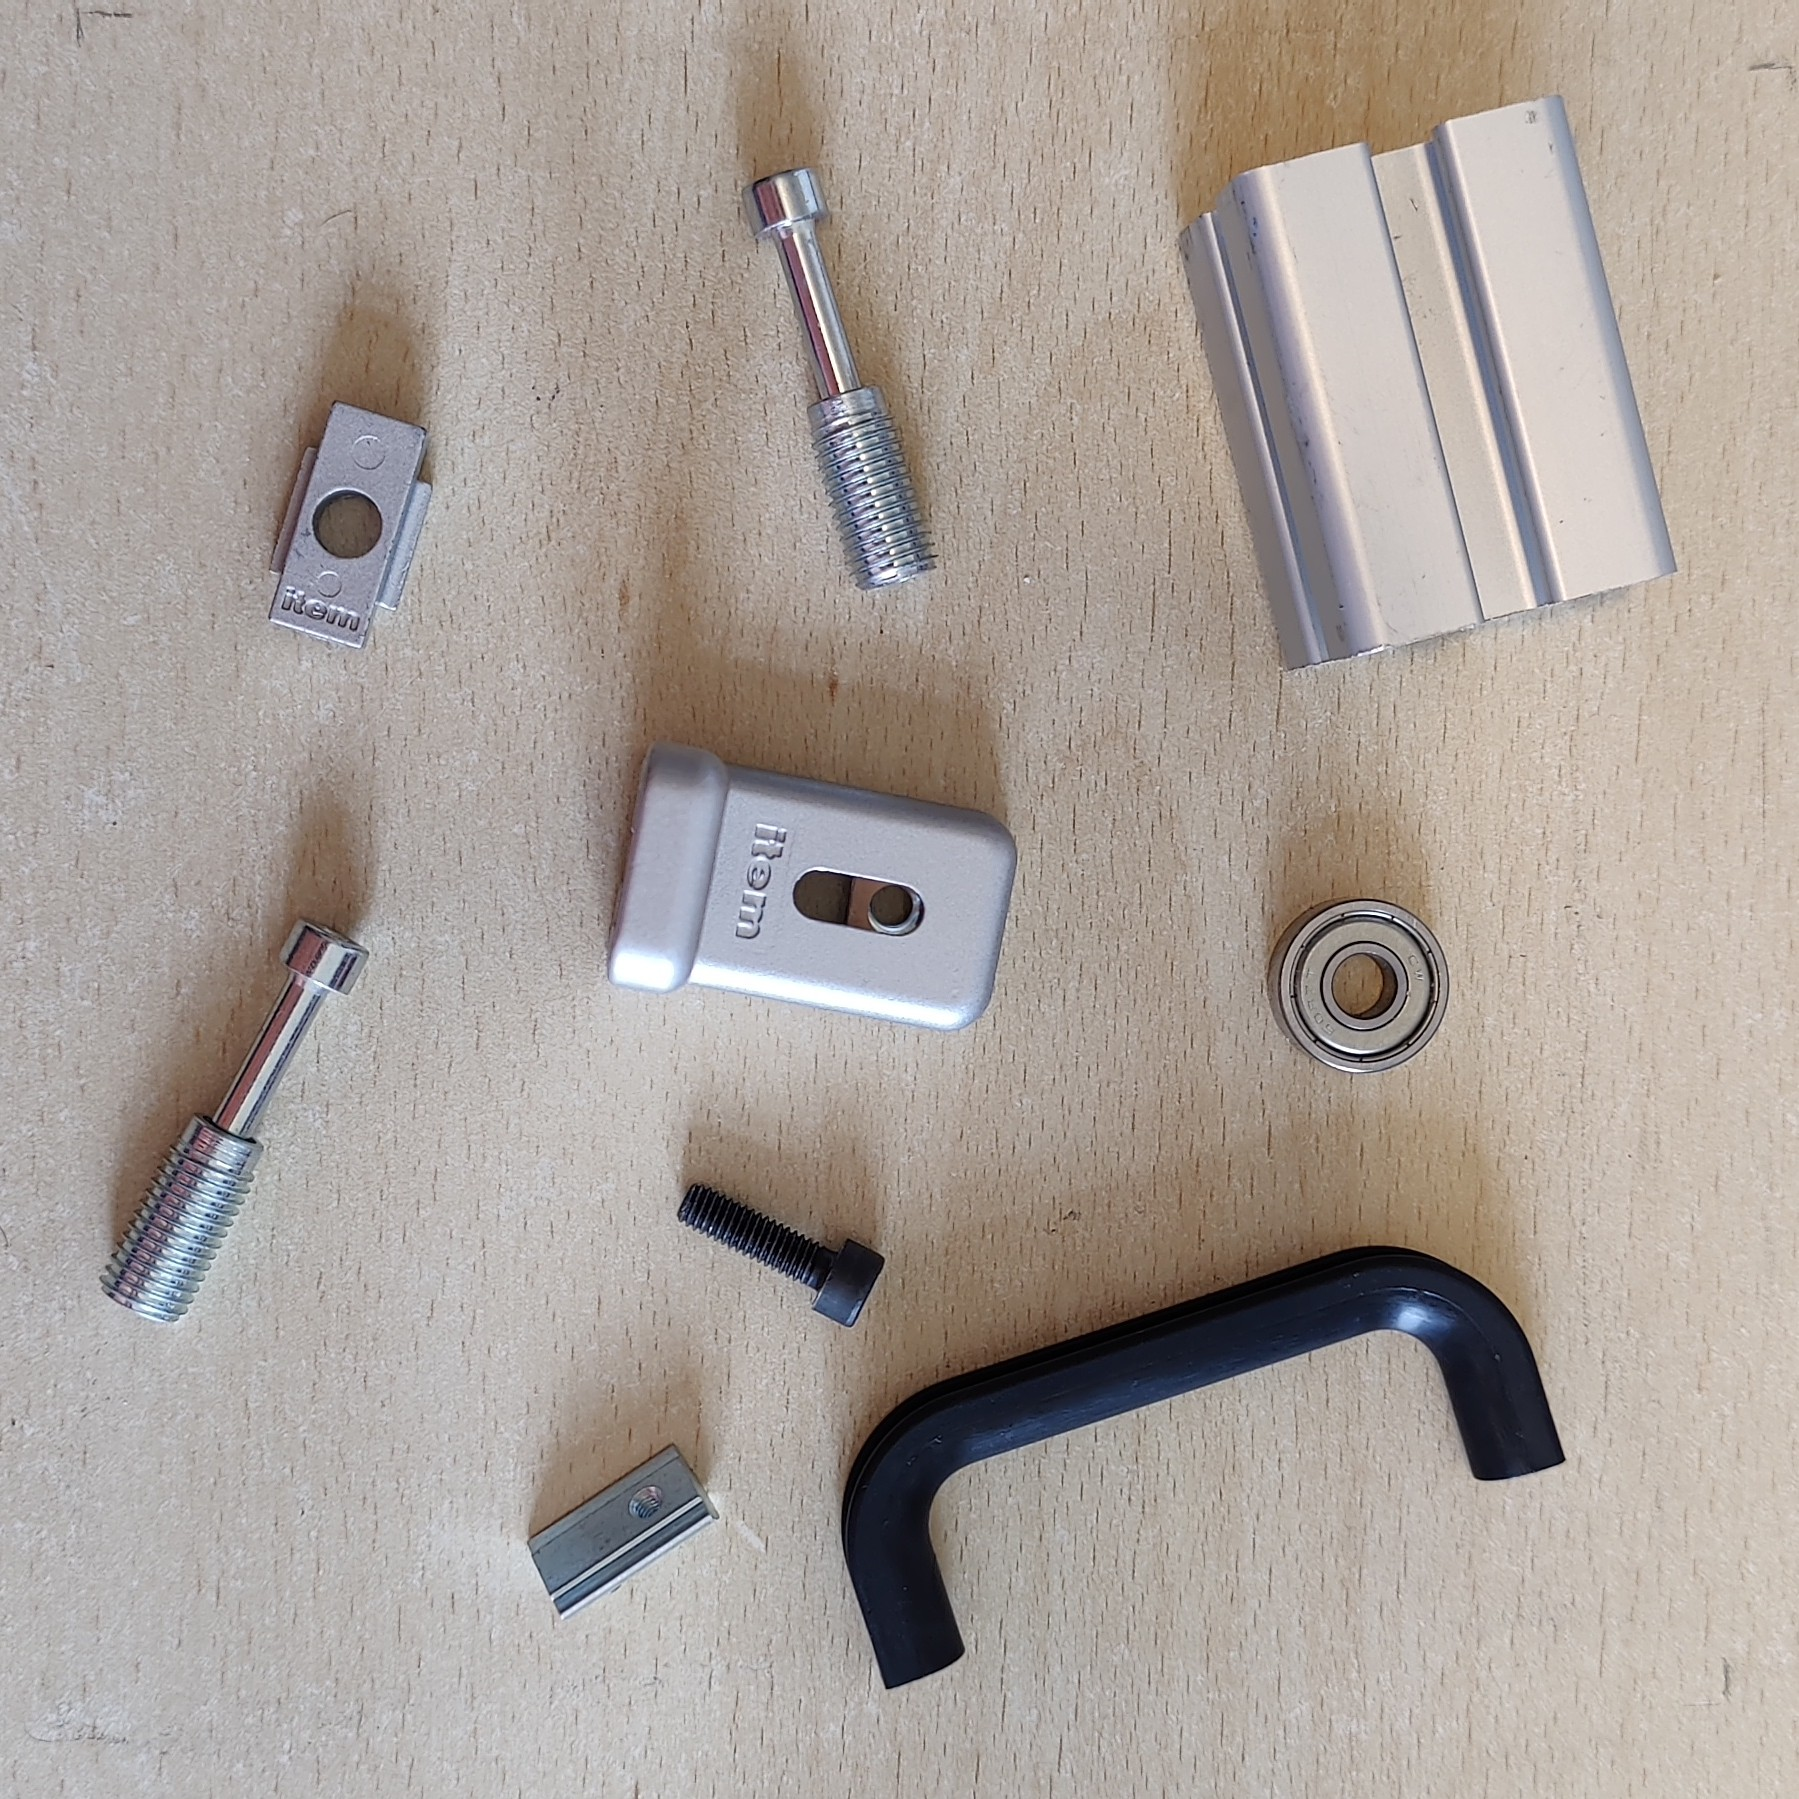Aluminium Extension: (1173, 91, 1680, 675)
Ball Bearing: (1264, 895, 1453, 1077)
Multiwinkel: (605, 736, 1018, 1035)
Pull Handle: (839, 1241, 1570, 1692)
Shoulder Socket Head Cap Screw: (97, 913, 371, 1326), (738, 161, 942, 595)
Socket Head Cap Screw: (672, 1180, 886, 1329)
T Nut Square: (264, 399, 435, 654)
T Spring Nut: (524, 1438, 723, 1623)
